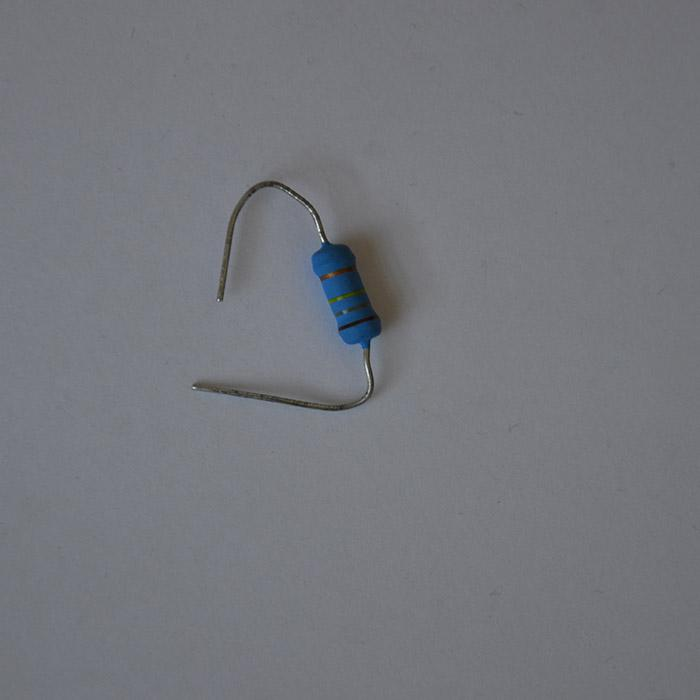resistor: (310, 240, 382, 349)
